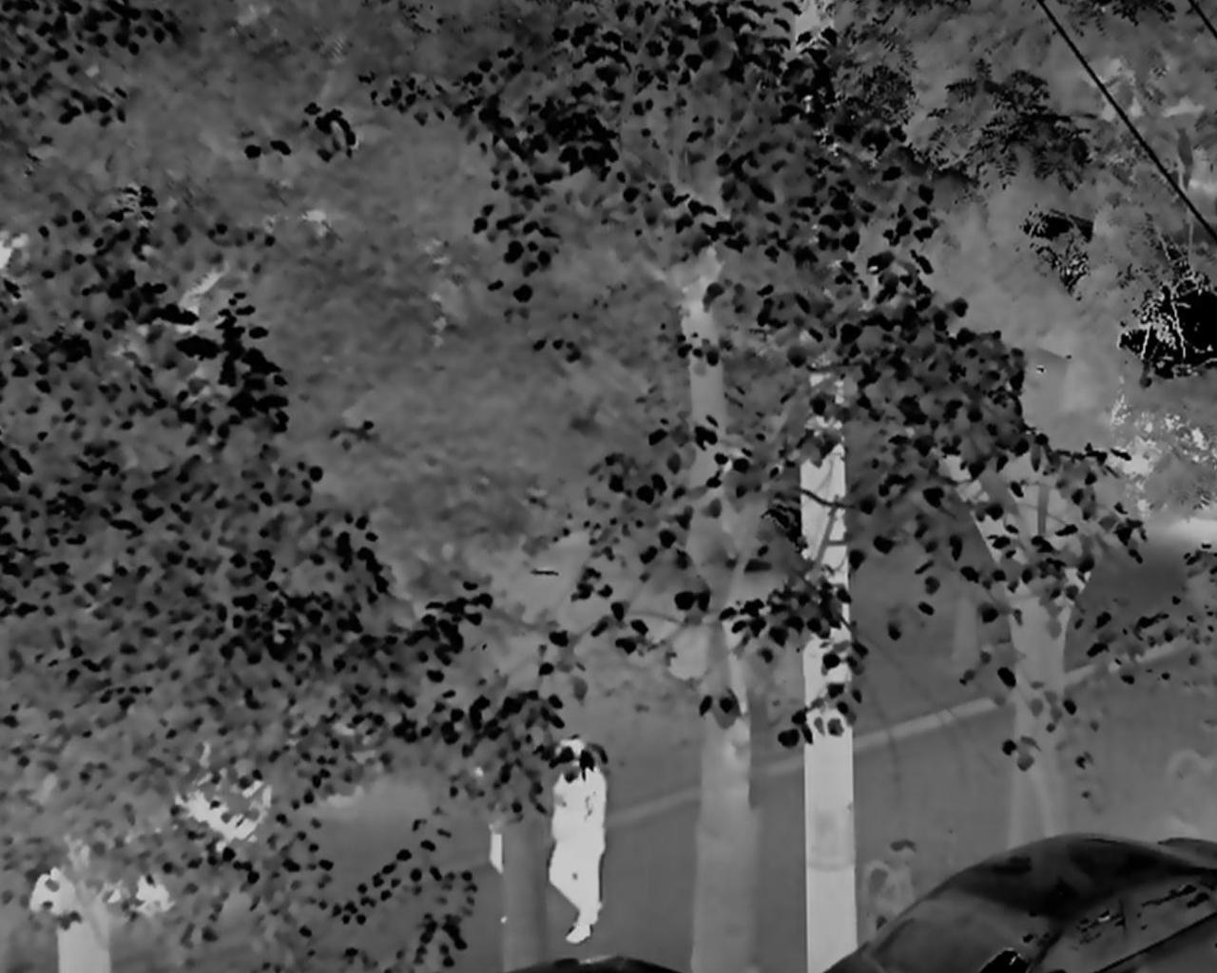person: (539, 736, 612, 947)
